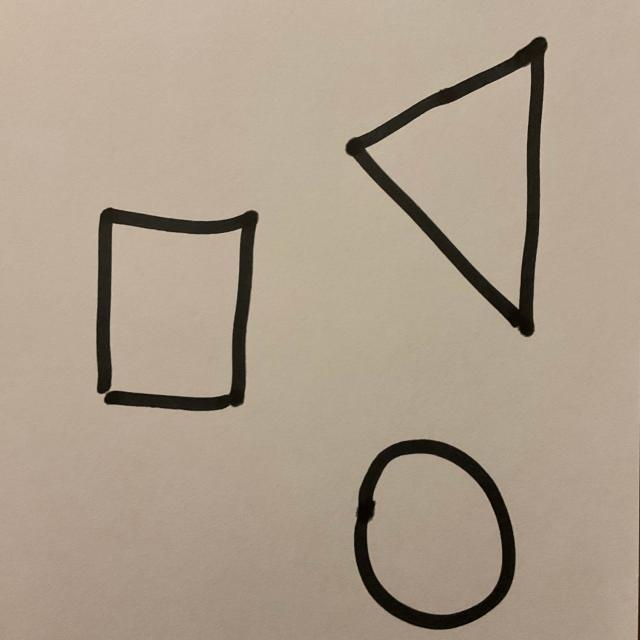Dreieck: (345, 37, 548, 339)
Kreis: (352, 440, 518, 633)
Quadrat: (94, 208, 260, 415)
